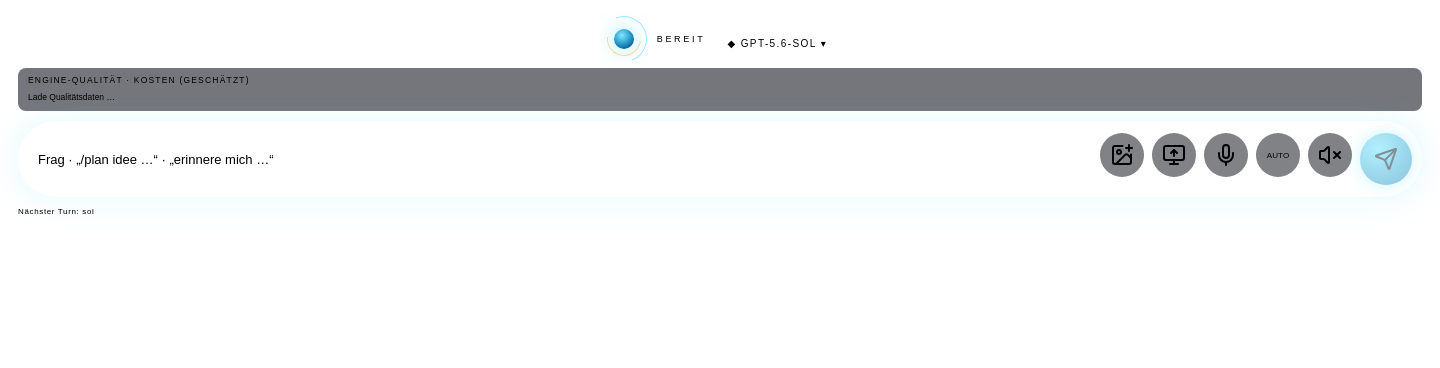
Test: PlanspecDraft (/plan-Flow, Wire aus pa_planspec.py) › 422 (Engine ohne YAML-Frontmatter): detail.error lesbar an der Card, nie still
This screenshot has width=1440, height=368.
Type "/plan kaputte Engine" into the field named "Nachricht an Jarvis" at (564, 159), box x1=38 y1=137 x2=1090 y2=181
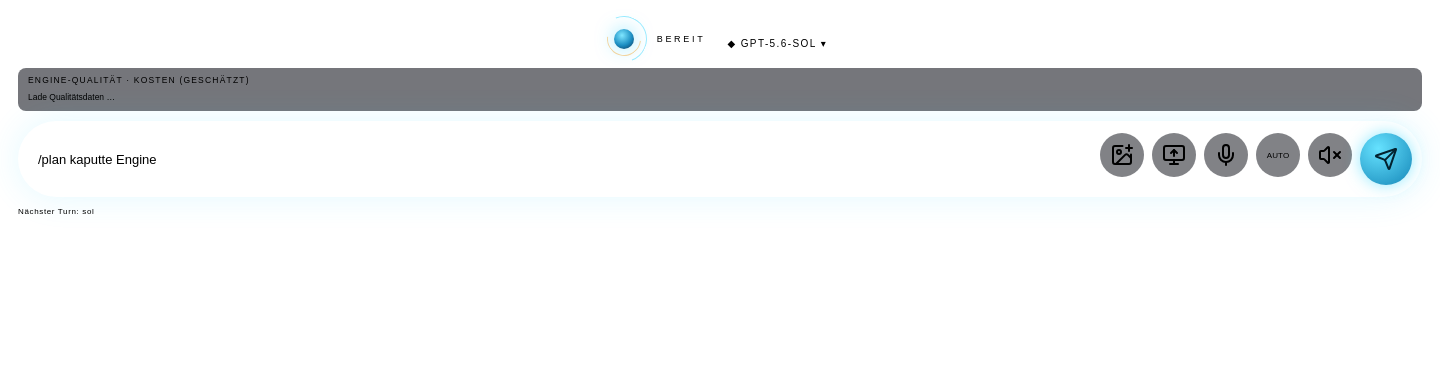
Click the button named "Nachricht senden" at (1386, 159), box x1=1360 y1=133 x2=1412 y2=185
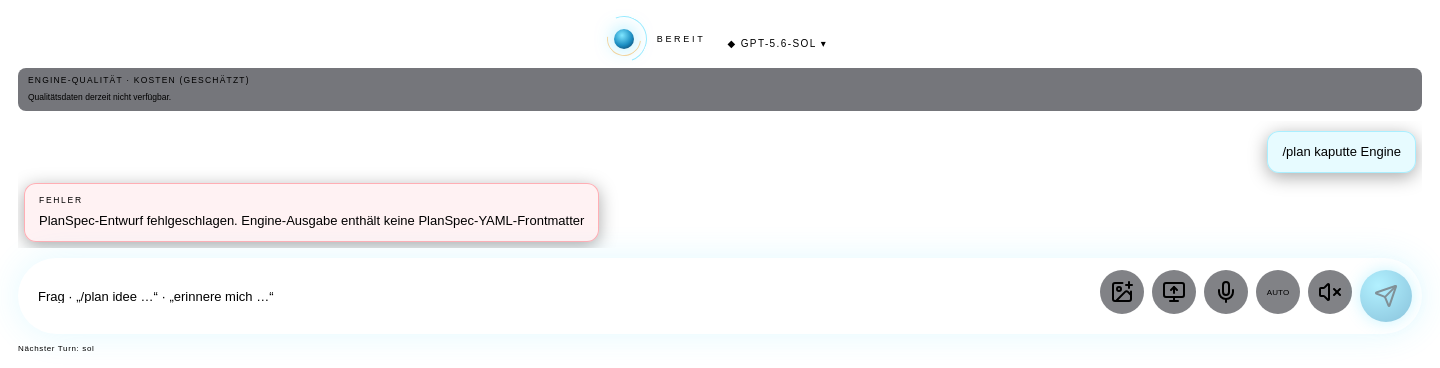
Check: the text "PlanSpec-Entwurf fehlgeschlagen." shows "Engine-Ausgabe enthält keine PlanSpec-YAML-Frontmatter", box x1=39 y1=213 x2=584 y2=228
